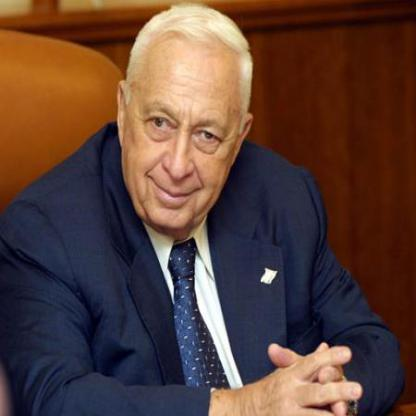face: (127, 16, 243, 235)
